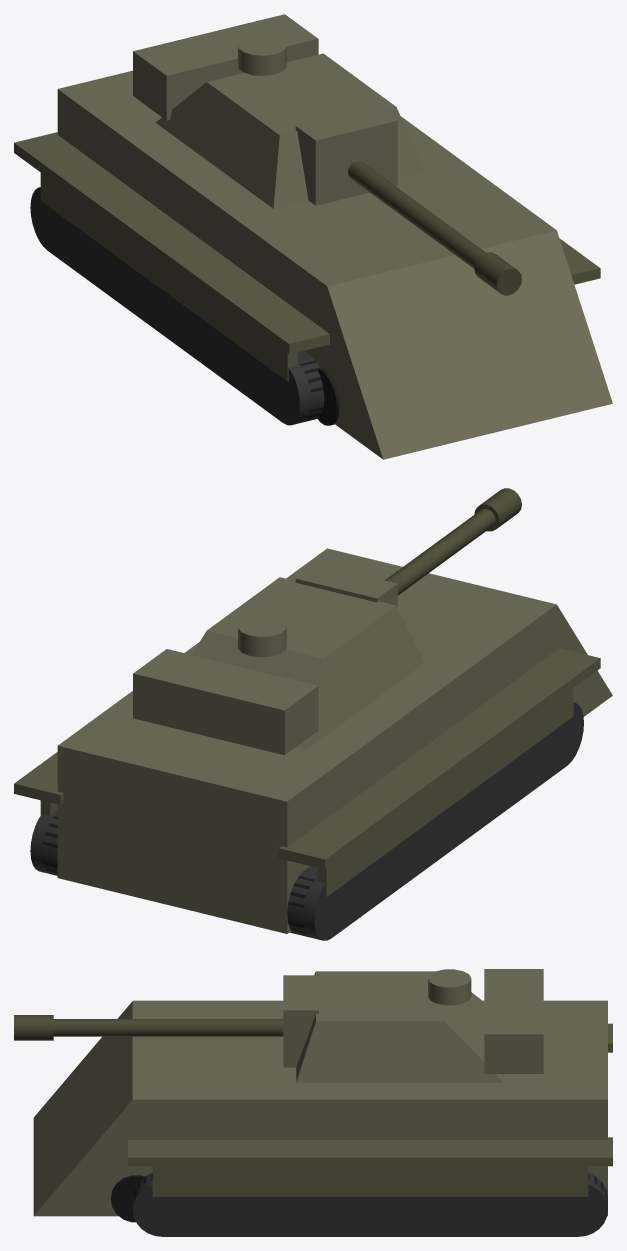
Rendered from tiger.glb.
The picture shows the model from 3 angles, top to bottom: view 1: azimuth 30°, elevation 25°; view 2: azimuth 150°, elevation 25°; view 3: azimuth 270°, elevation 25°; orthographic projection. The views are drawn at different scales.
Visible parts, largest first — view 1: 车首斜板, 车体, 炮塔, 左挡泥板, 左履带, 战斗室加宽, 左侧裙板, 前脸防盾, 左主动轮 (×3), 88mm 主炮, 车长指挥塔, 炮口制退器 (+2 smaller); view 2: 车体, 炮塔, 左挡泥板, 战斗室加宽, 左履带, 左侧裙板, 左主动轮 (×3), 88mm 主炮, 前脸防盾, 车长指挥塔, 车首斜板, 右挡泥板 (+2 smaller); view 3: 车体, 炮塔, 右履带, 车首斜板, 右侧裙板, 右挡泥板, 战斗室加宽, 88mm 主炮, 右主动轮 (×3), 前脸防盾, 车长指挥塔, 炮口制退器 (+1 smaller).
Part boxes in pixels (left/top/right/bottom): 车首斜板: left=327, top=230, right=612, bottom=459; 车体: left=57, top=70, right=556, bottom=371; 炮塔: left=155, top=53, right=424, bottom=208; 左挡泥板: left=14, top=132, right=329, bottom=354; 左履带: left=47, top=206, right=309, bottom=422; 战斗室加宽: left=133, top=14, right=318, bottom=120; 左侧裙板: left=40, top=173, right=297, bottom=381; 前脸防盾: left=295, top=106, right=397, bottom=205; 左主动轮 (×3): left=30, top=187, right=324, bottom=425; 88mm 主炮: left=348, top=161, right=485, bottom=268; 车长指挥塔: left=238, top=35, right=286, bottom=75; 炮口制退器: left=474, top=252, right=521, bottom=295; 车体: left=57, top=548, right=556, bottom=933; 炮塔: left=191, top=577, right=424, bottom=748; 左挡泥板: left=278, top=648, right=600, bottom=869; 战斗室加宽: left=133, top=649, right=318, bottom=755; 左履带: left=304, top=721, right=567, bottom=938; 左侧裙板: left=317, top=688, right=573, bottom=896; 左主动轮 (×3): left=287, top=702, right=583, bottom=940; 88mm 主炮: left=385, top=509, right=495, bottom=595; 前脸防盾: left=295, top=564, right=397, bottom=607; 车长指挥塔: left=238, top=616, right=286, bottom=657; 车首斜板: left=557, top=605, right=612, bottom=716; 右挡泥板: left=14, top=752, right=63, bottom=804; 车体: left=132, top=1000, right=607, bottom=1216; 炮塔: left=296, top=971, right=503, bottom=1082; 右履带: left=162, top=1197, right=578, bottom=1236; 车首斜板: left=33, top=1001, right=132, bottom=1216; 右侧裙板: left=152, top=1166, right=588, bottom=1196; 右挡泥板: left=128, top=1137, right=612, bottom=1166; 战斗室加宽: left=484, top=969, right=543, bottom=1073; 88mm 主炮: left=53, top=1019, right=283, bottom=1036; 右主动轮 (×3): left=132, top=1173, right=607, bottom=1236; 前脸防盾: left=283, top=975, right=318, bottom=1067; 车长指挥塔: left=428, top=969, right=471, bottom=1005; 炮口制退器: left=14, top=1015, right=53, bottom=1040.
Size of the model in its own units: 3.2 by 2.2 by 6.05.
